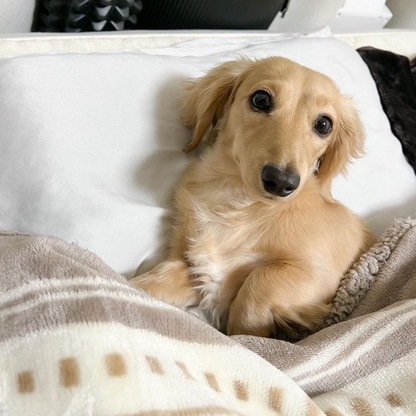dachshund: (174, 51, 384, 373)
